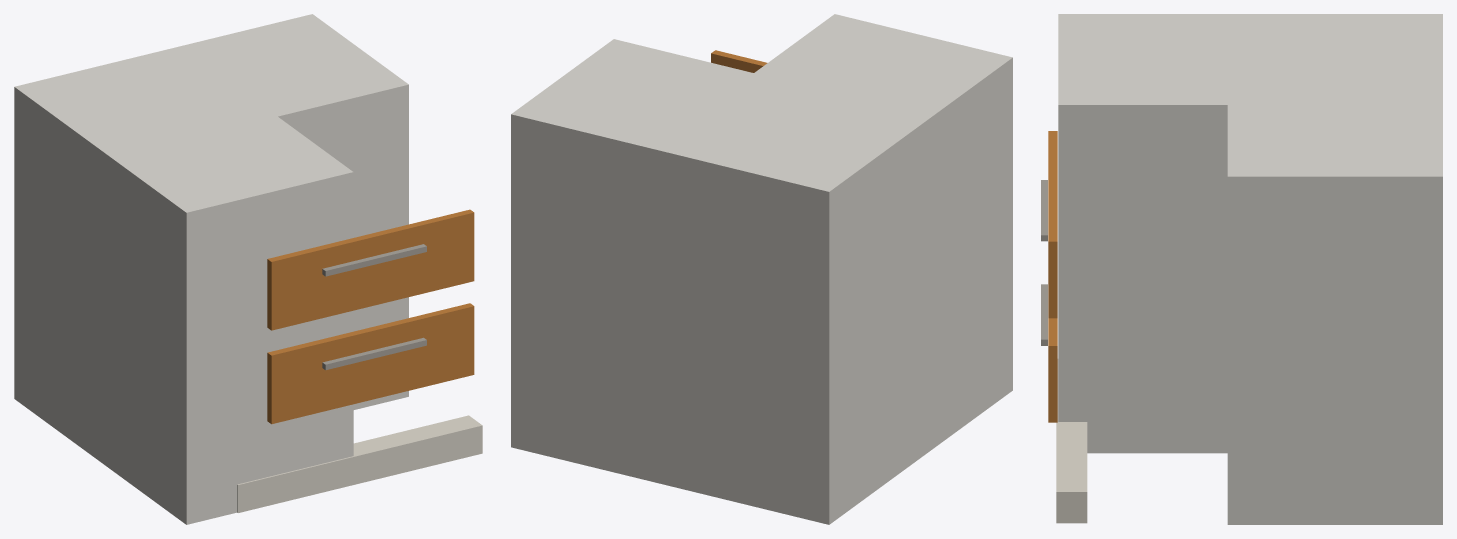
File: flatBaseCornerDrawer.glb
3 renders of one model, left to right at view 1: azimuth 30°, elevation 25°; view 2: azimuth 150°, elevation 25°; view 3: azimuth 270°, elevation 25°, orthographic. The views are drawn at different scales.
Parts seen in each view (by area): view 1: bodyReturn, bodyLeft, drawerLow, drawerWide, toeKick, handle (×2); view 2: bodyLeft, bodyReturn, drawerWide; view 3: bodyLeft, bodyReturn, toeKick, drawerWide, drawerLow.
Boxes of the visible parts, x1,y1,x2,y2 form: bodyReturn: [14, 46, 353, 524]; bodyLeft: [14, 14, 408, 468]; drawerLow: [267, 303, 474, 424]; drawerWide: [267, 209, 474, 330]; toeKick: [237, 415, 482, 512]; handle (×2): [322, 244, 426, 370]; bodyLeft: [511, 39, 931, 524]; bodyReturn: [651, 14, 1012, 524]; drawerWide: [711, 50, 767, 72]; bodyLeft: [1227, 14, 1442, 524]; bodyReturn: [1058, 14, 1442, 453]; toeKick: [1056, 359, 1087, 523]; drawerWide: [1048, 131, 1057, 318]; drawerLow: [1048, 318, 1057, 422].
Size of the model in its own units: 1 by 1 by 1.05.
